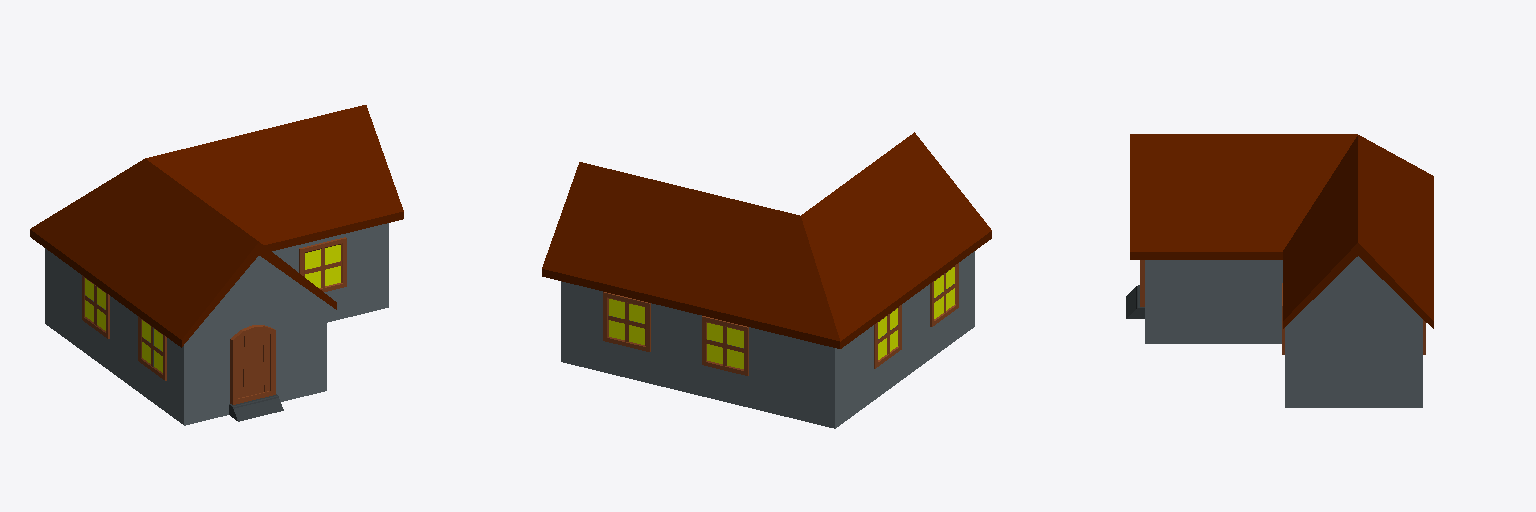
3 views of the same model, side by side, from view 1: azimuth 30°, elevation 25°; view 2: azimuth 150°, elevation 25°; view 3: azimuth 270°, elevation 25° (orthographic).
Parts seen in each view (by area): view 1: Cube_Cube.001; view 2: Cube_Cube.001; view 3: Cube_Cube.001.
Part boxes in pixels (bbox=[...]): Cube_Cube.001: bbox=[30, 105, 403, 425]; Cube_Cube.001: bbox=[542, 132, 991, 428]; Cube_Cube.001: bbox=[1126, 134, 1433, 407].
Bounding box in the file's own units: 5.57 × 3.08 × 4.97.
Materials: 1 (1 with a texture image).